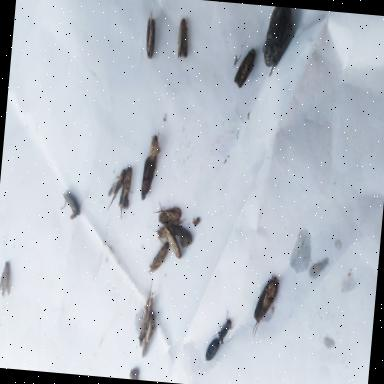pbw: (146, 130, 163, 194), (106, 167, 127, 214), (138, 286, 154, 344), (147, 240, 171, 278), (116, 167, 132, 222), (142, 311, 158, 359), (162, 228, 184, 262), (144, 10, 158, 62), (60, 192, 82, 225), (153, 201, 184, 224), (176, 20, 190, 62), (0, 257, 14, 298)
